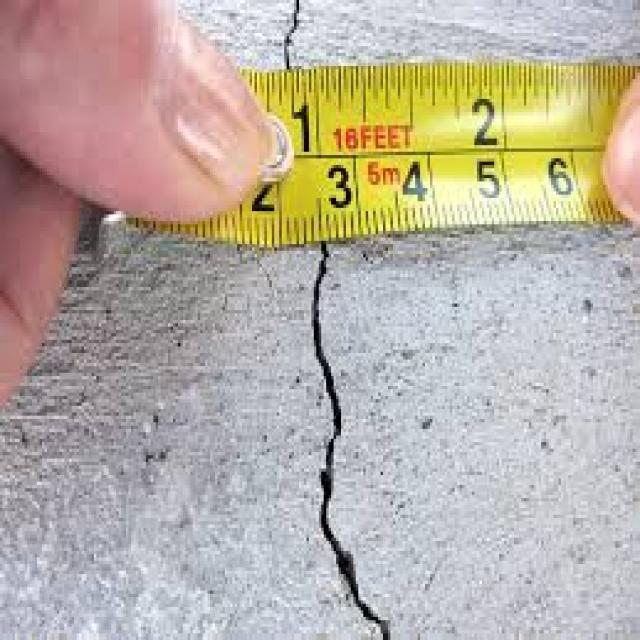Crack: (306, 238, 391, 636), (282, 0, 302, 66)
